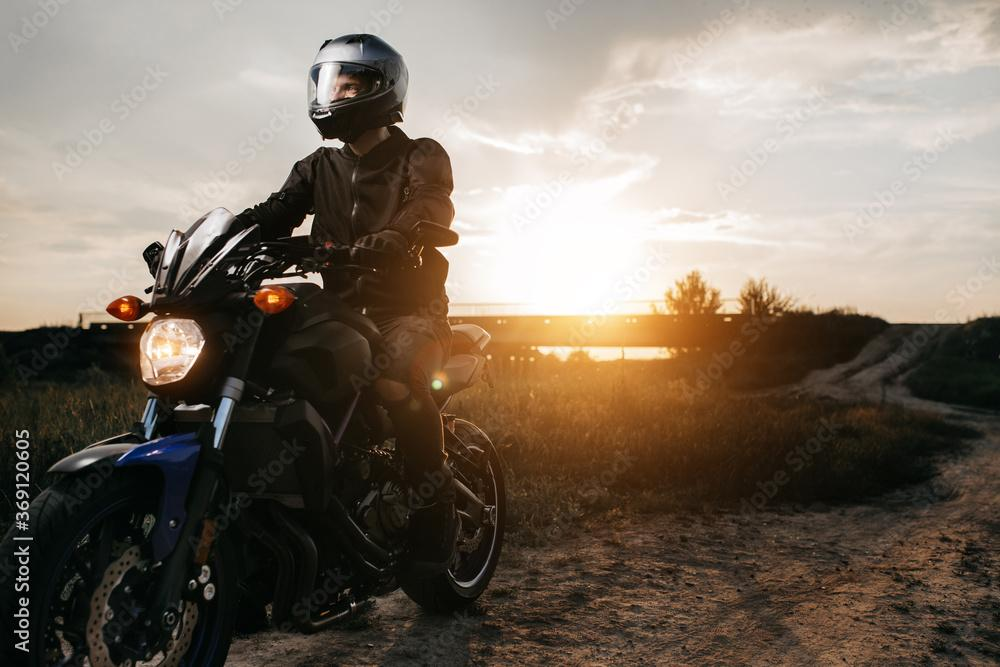helmet: (306, 32, 410, 145)
